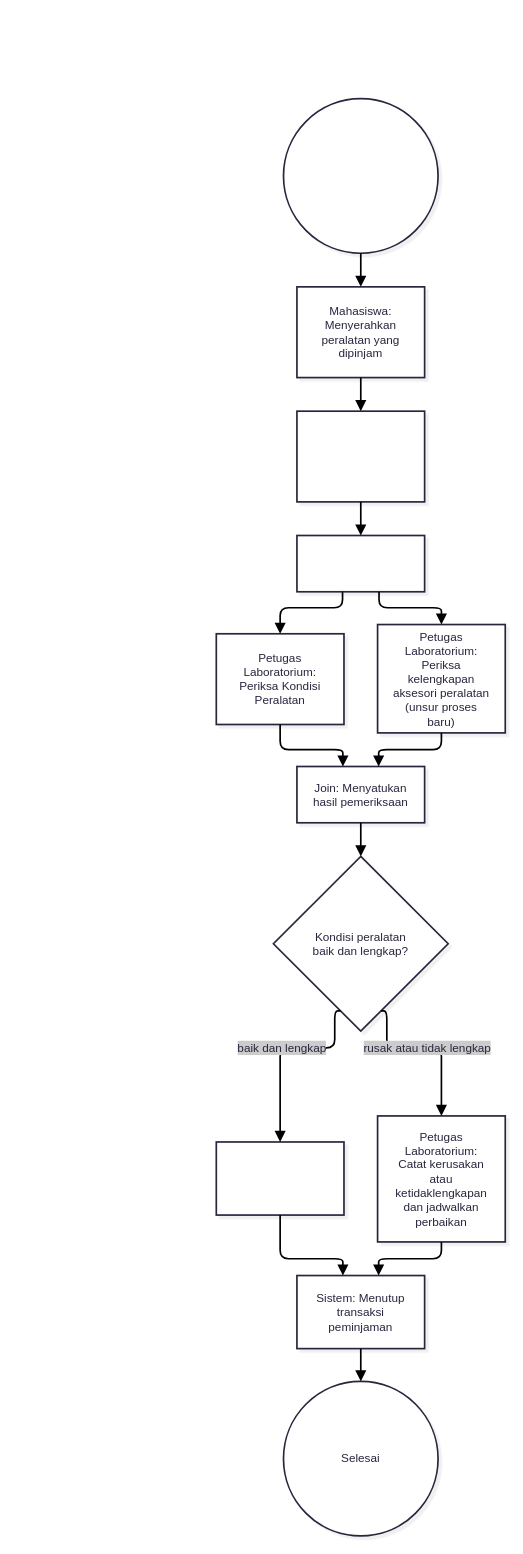
Some shapes in this 523 by 1554 pixel diagram are drawn without their labels. Here are the shapes that lost their labels. From the top down, the centre of each, then its label:
point 362,177: Mulai
point 362,458: Petugas Laboratorium: Catat Pengembalian Peralatan
point 362,565: Fork: Pemeriksaan paralel
point 281,1180: Sistem: Perbarui status peralatan menjadi tersedia
